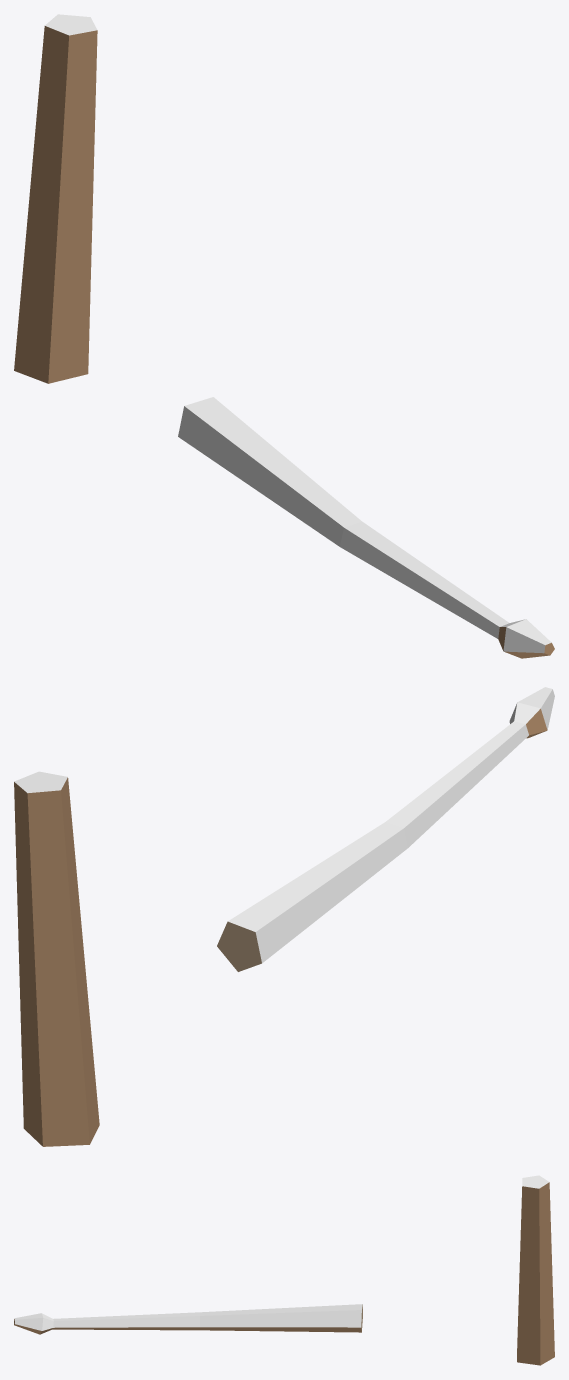
Rendered from Palm_Tree_NoLeaves_crk_m_Snow_BT_01.fbx.
3 renders of one model, top to bottom at view 1: azimuth 30°, elevation 25°; view 2: azimuth 150°, elevation 25°; view 3: azimuth 270°, elevation 25°, orthographic. The views are drawn at different scales.
Parts seen in each view (by area): view 1: Palm_Tree_NoLeaves_crk_m_Snow_BT_01; view 2: Palm_Tree_NoLeaves_crk_m_Snow_BT_01; view 3: Palm_Tree_NoLeaves_crk_m_Snow_BT_01.
Boxes of the visible parts, box(x1,y1,x2,y2) form: Palm_Tree_NoLeaves_crk_m_Snow_BT_01: box(14, 14, 554, 658); Palm_Tree_NoLeaves_crk_m_Snow_BT_01: box(14, 687, 554, 1146); Palm_Tree_NoLeaves_crk_m_Snow_BT_01: box(14, 1175, 554, 1365).
Bounding box in the file's own units: 53.12 × 221 × 599.
